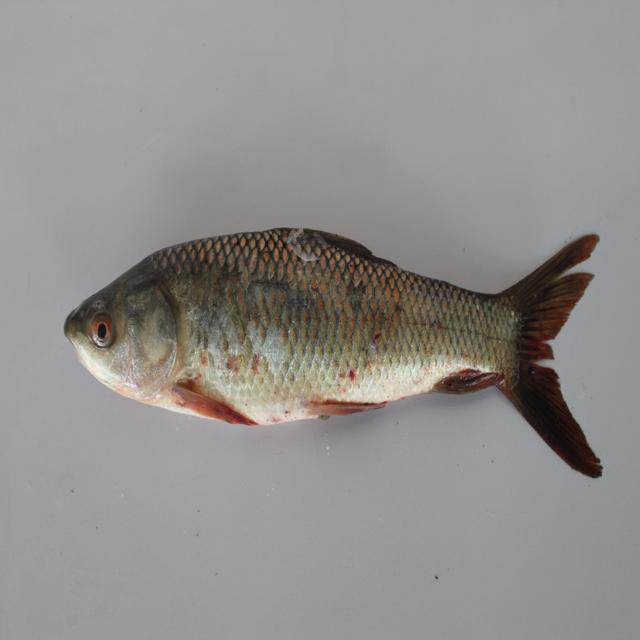Rohu: (52, 213, 607, 480)
